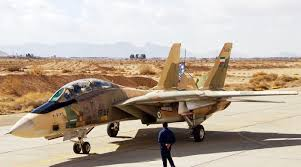fighter: (4, 39, 301, 156)
